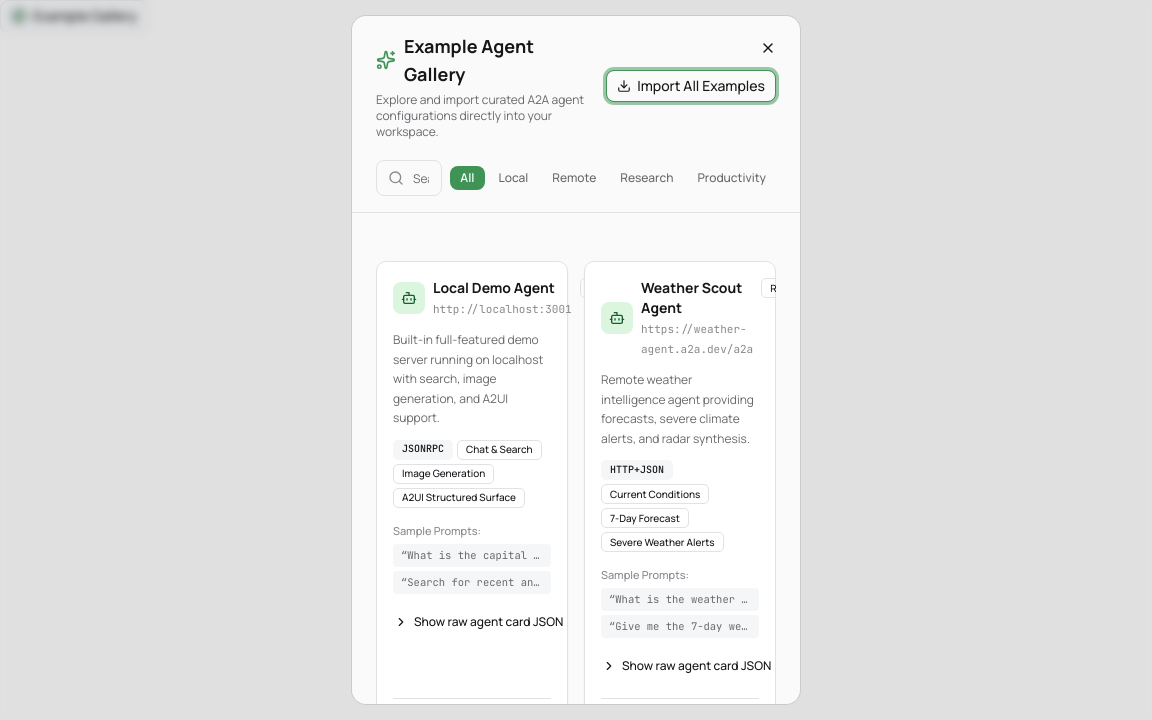
Test: PresetGalleryModal › filters presets using category buttons
The width and height of the screenshot is (1152, 720).
Click the button "Research" at x=647, y=178, box [610,166,683,190]
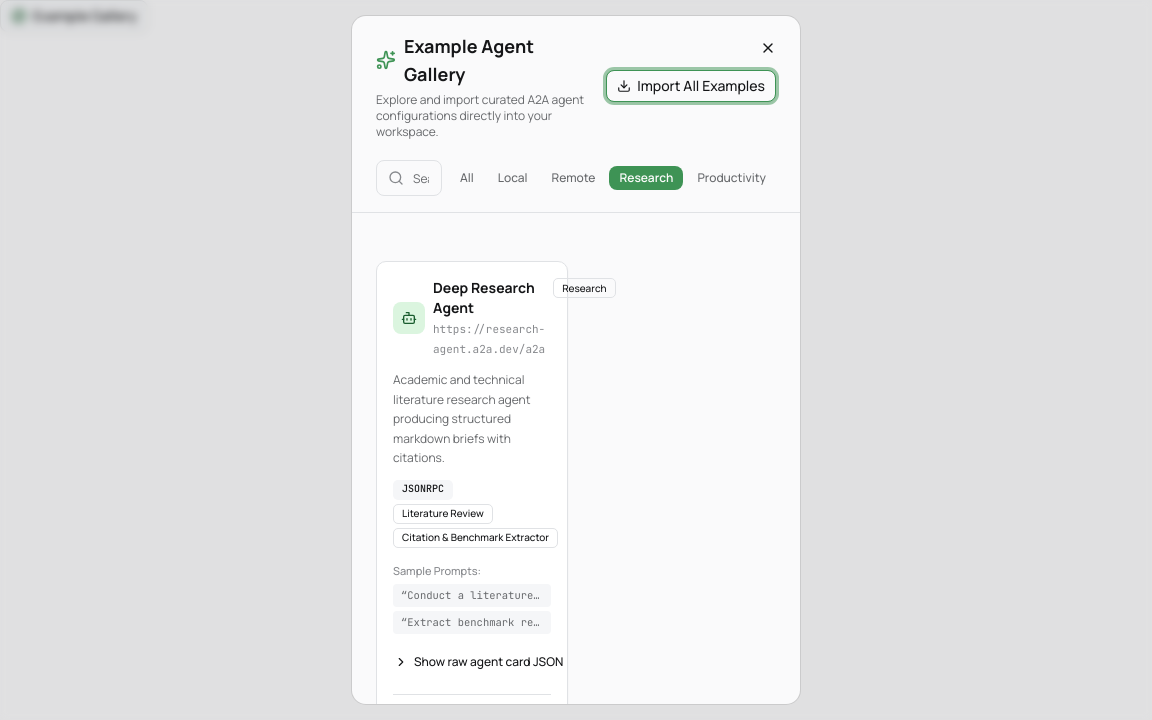
Expected: the text "Deep Research Agent" is shown, [433,278,545,318]
Expected: the text "Weather Scout Agent" is gone
Expected: the text "Local Demo Agent" is gone
